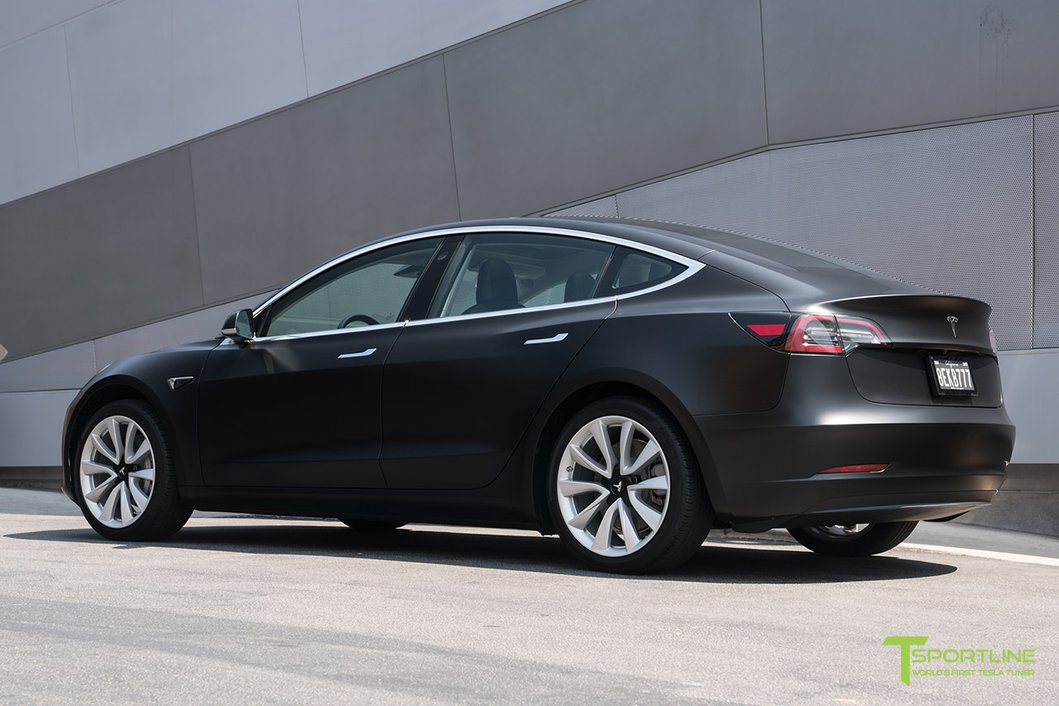license plate: (927, 354, 980, 400)
